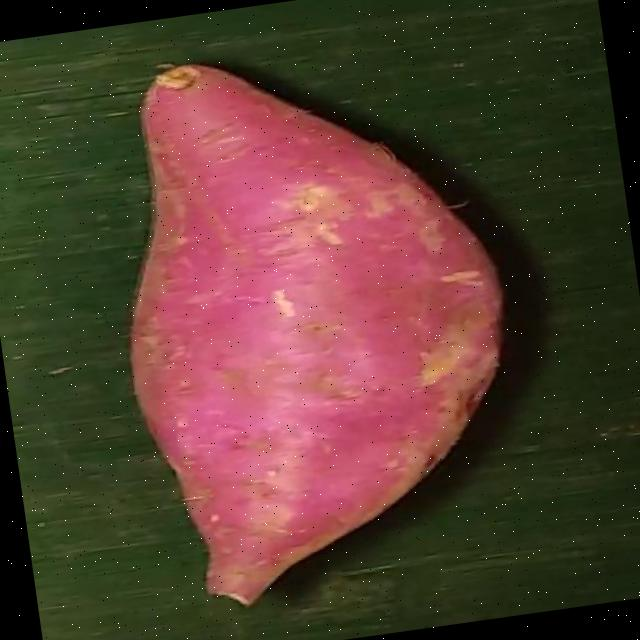Sweet Potato: (129, 62, 500, 606)
